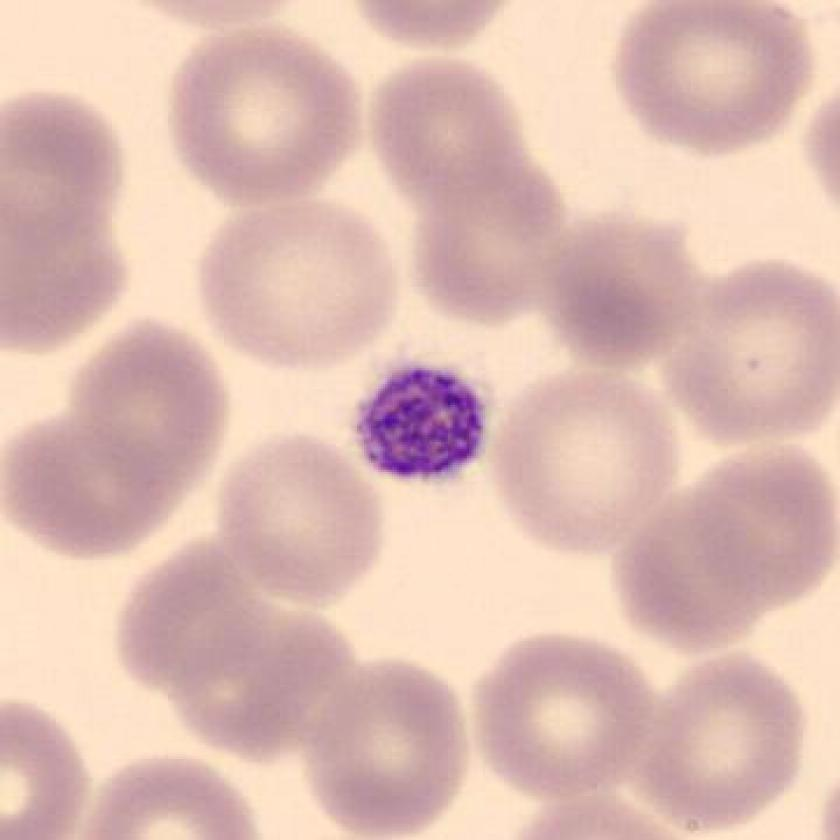platelets: (347, 346, 494, 492)
